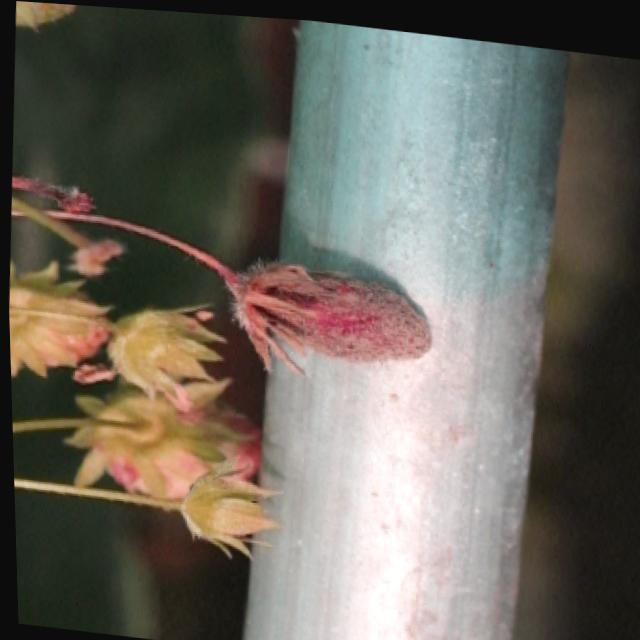Gray Mold: (222, 255, 432, 371)
